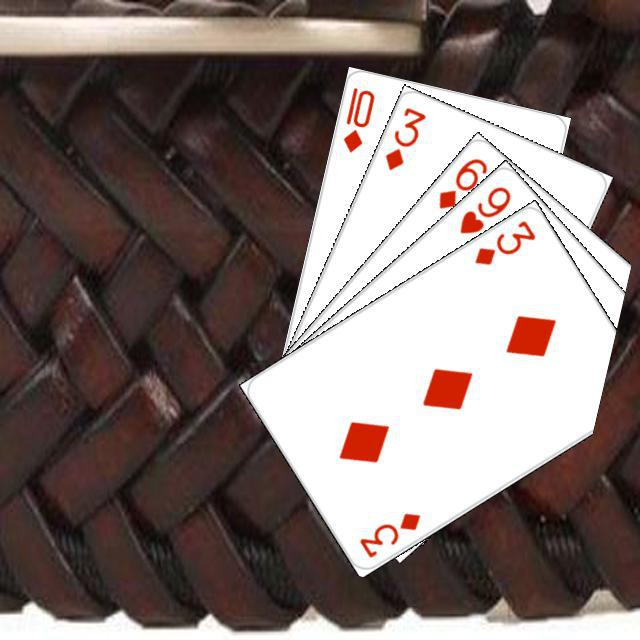10d: (338, 82, 377, 154)
3d: (354, 507, 422, 560), (469, 215, 538, 267), (380, 102, 428, 172)
6d: (433, 153, 489, 211)
9h: (454, 181, 513, 236)
